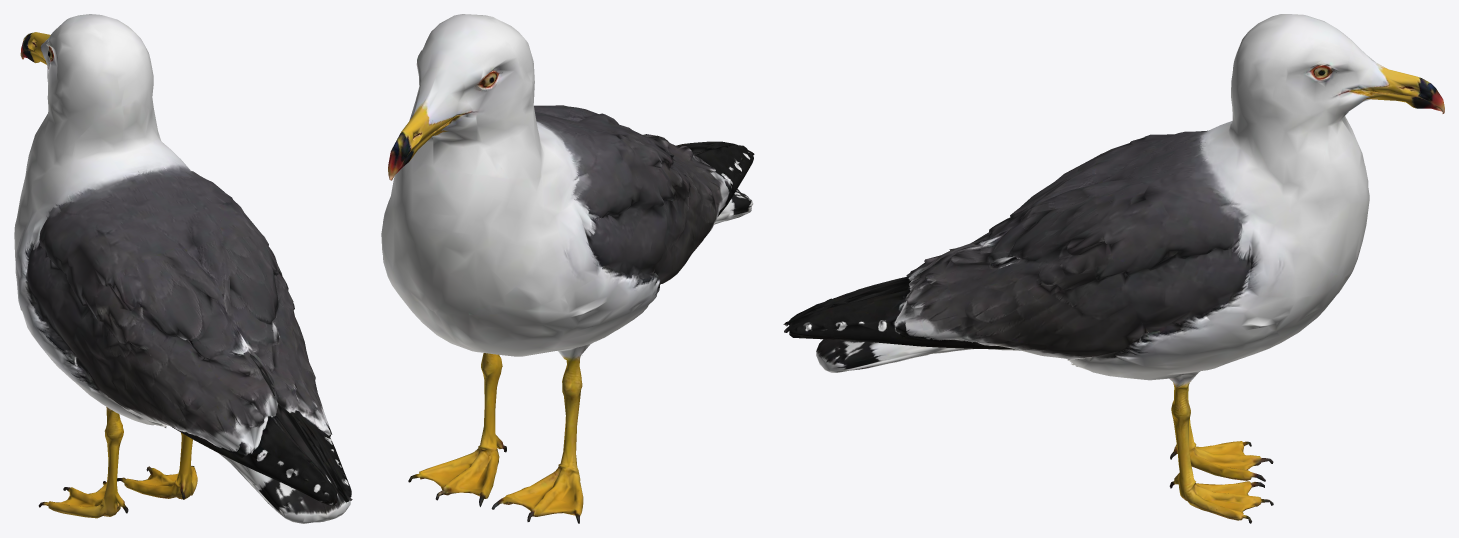
The model's file is gull-mid.glb.
The picture shows the model from 3 angles, left to right: view 1: azimuth 30°, elevation 25°; view 2: azimuth 150°, elevation 25°; view 3: azimuth 270°, elevation 25°; orthographic projection. The views are drawn at different scales.
Parts seen in each view (by area): view 1: tripo_node_6db6bc4d-722d-494c-9df9-a40319262510; view 2: tripo_node_6db6bc4d-722d-494c-9df9-a40319262510; view 3: tripo_node_6db6bc4d-722d-494c-9df9-a40319262510.
Part boxes in pixels (left/top/right/bottom): tripo_node_6db6bc4d-722d-494c-9df9-a40319262510: left=14, top=14, right=352, bottom=523; tripo_node_6db6bc4d-722d-494c-9df9-a40319262510: left=381, top=14, right=754, bottom=523; tripo_node_6db6bc4d-722d-494c-9df9-a40319262510: left=783, top=14, right=1444, bottom=523.
Bounding box in the file's own units: 0.1783 × 0.3749 × 0.4804.
Materials: 1 (1 with a texture image).
